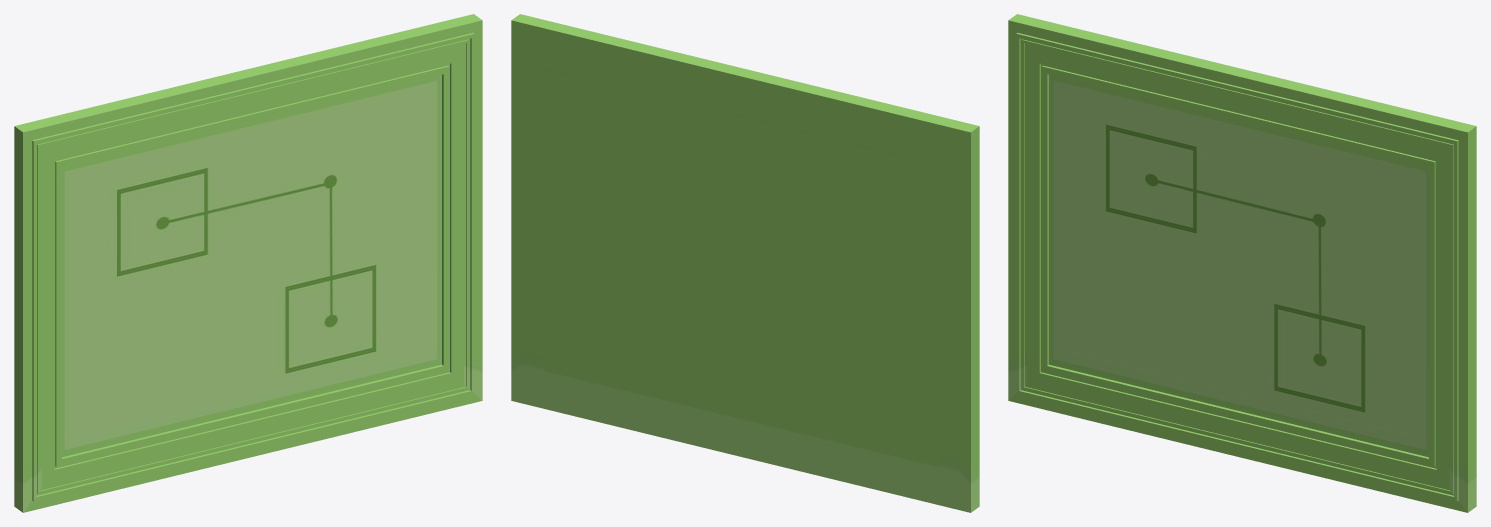
Rendered from CuadroS.obj.
3 views of the same model, side by side, from view 1: azimuth 30°, elevation 25°; view 2: azimuth 150°, elevation 25°; view 3: azimuth 330°, elevation 25° (orthographic).
Visible parts, largest first — view 1: objPainting:Painting; view 2: objPainting:Painting; view 3: objPainting:Painting.
Part boxes in pixels (x1=…): objPainting:Painting: x1=14, y1=14, x2=482, y2=512; objPainting:Painting: x1=511, y1=14, x2=979, y2=512; objPainting:Painting: x1=1008, y1=14, x2=1476, y2=512.
Bounding box in the file's own units: 69.91 × 55.32 × 2.65.
Materials: 2 (2 with a texture image).
